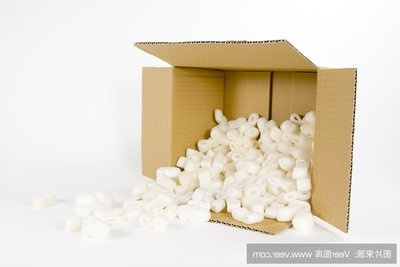5/可回收垃圾/泡沫: (32, 110, 317, 250)
